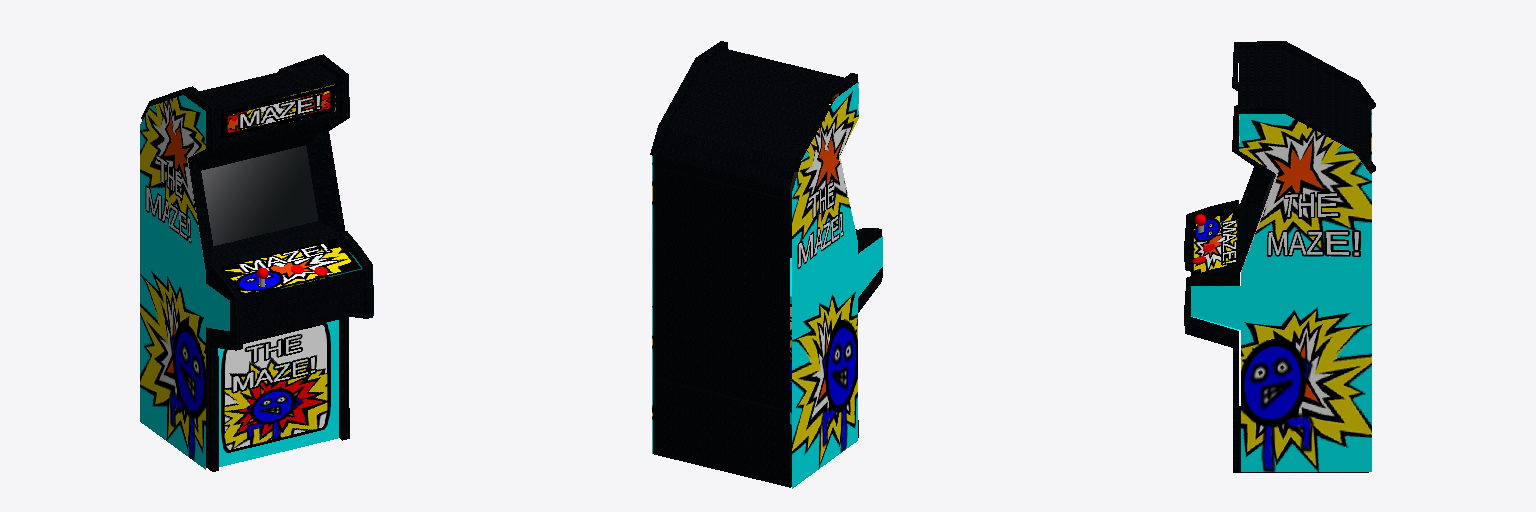
3 views of the same model, side by side, from view 1: azimuth 30°, elevation 25°; view 2: azimuth 150°, elevation 25°; view 3: azimuth 270°, elevation 25° (orthographic).
Parts seen in each view (by area): view 1: Box001, Plane001, Main_Image, Screen, Controlller_Screen, Top_Image; view 2: Box001, Plane001; view 3: Plane002, Box001, Controlller_Screen.
Part boxes in pixels (x1,y1,x2,y2): Box001: (141,54,373,471); Plane001: (140,95,229,469); Main_Image: (218,320,338,466); Screen: (201,145,317,245); Controlller_Screen: (221,238,360,296); Top_Image: (221,85,334,138); Box001: (650,41,882,487); Plane001: (792,82,882,488); Plane002: (1191,114,1371,471); Box001: (1184,41,1375,472); Controlller_Screen: (1191,209,1239,275).
Size of the model in its own units: 173 by 430 by 205.
Materials: 10 (10 with a texture image).